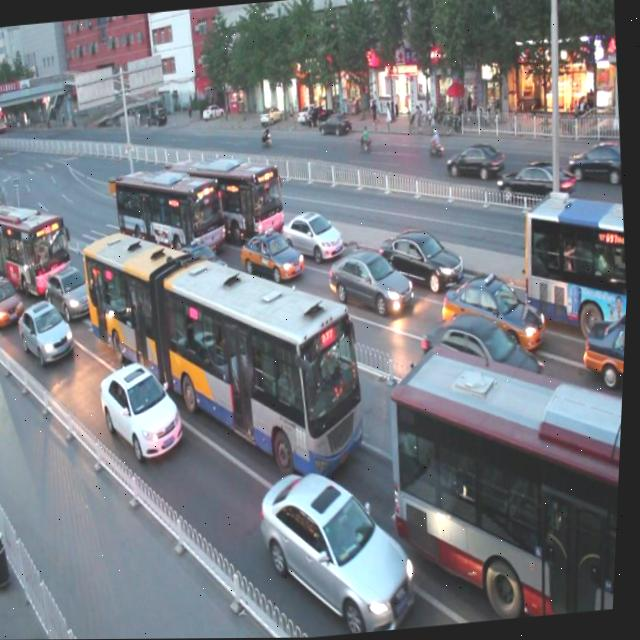car: (251, 457, 428, 638), (419, 307, 551, 426), (439, 263, 553, 365), (96, 356, 190, 466), (326, 239, 417, 323), (380, 219, 469, 295), (237, 220, 308, 288), (279, 199, 347, 267), (17, 293, 79, 365), (171, 235, 235, 299), (580, 316, 629, 392), (43, 261, 102, 324), (0, 267, 27, 329)
van: (73, 203, 380, 501), (383, 328, 628, 630), (516, 185, 633, 335), (111, 155, 232, 271), (167, 142, 291, 251), (0, 192, 75, 293)
